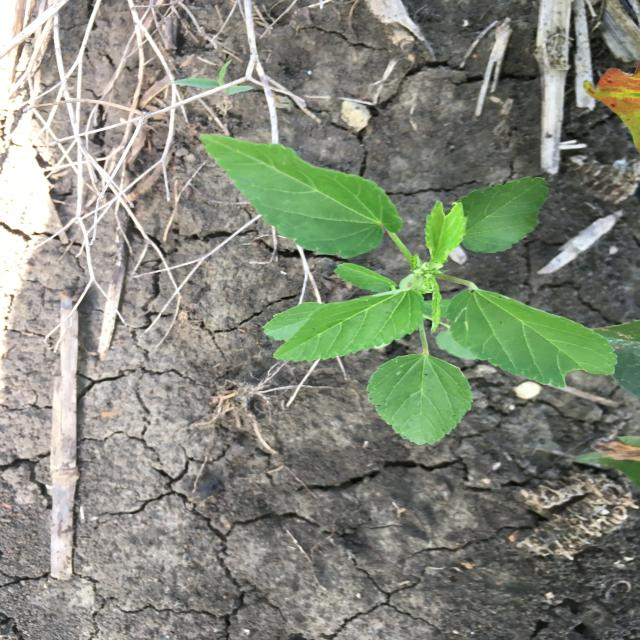PricklySida: (195, 131, 620, 448)
